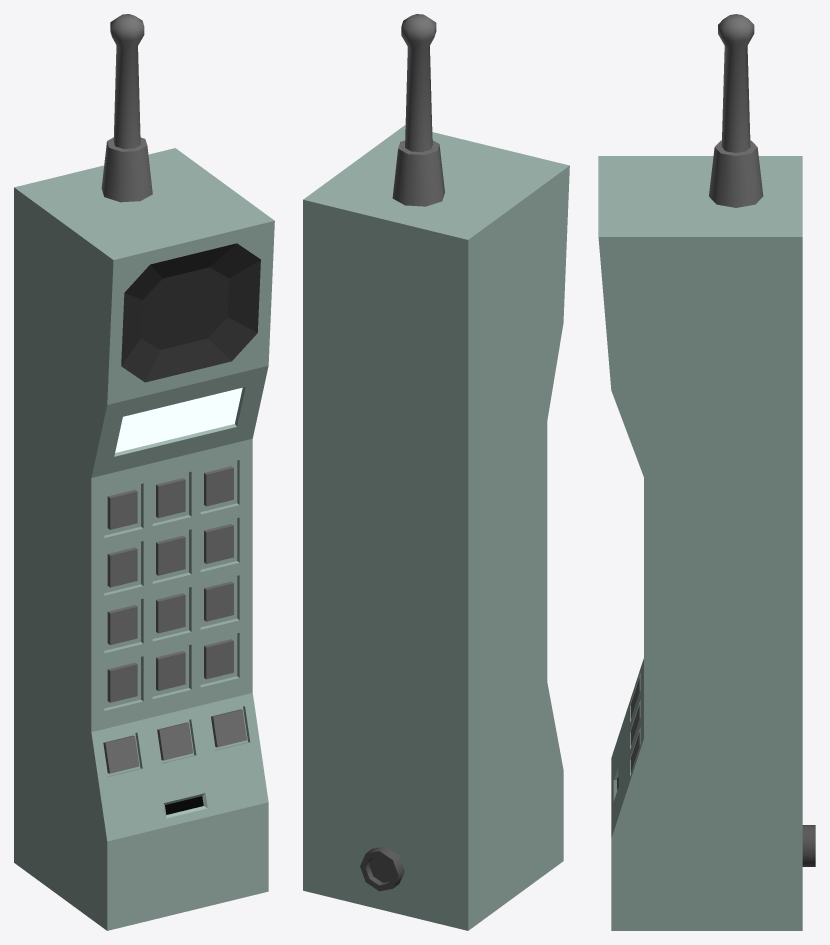
Rendered from Brick Cell Phone.fbx.
3 views of the same model, side by side, from view 1: azimuth 30°, elevation 25°; view 2: azimuth 150°, elevation 25°; view 3: azimuth 270°, elevation 25° (orthographic). The views are drawn at different scales.
Parts seen in each view (by area): view 1: Body, Antenna, Button 1, Button 7, Button *, Button 4, Button Accept, Button Cancel, Button Action, Button 8, Button #, Button 2 (+5 smaller); view 2: Body, Antenna, Power Port; view 3: Body, Antenna, Power Port.
Part boxes in pixels (x1=…): Body: x1=14, y1=148, x2=274, y2=930; Antenna: x1=101, y1=14, x2=152, y2=202; Button 1: x1=107, y1=489, x2=137, y2=529; Button 7: x1=107, y1=605, x2=137, y2=645; Button *: x1=107, y1=662, x2=137, y2=702; Button 4: x1=107, y1=547, x2=137, y2=587; Button Accept: x1=103, y1=735, x2=139, y2=773; Button Cancel: x1=211, y1=709, x2=246, y2=747; Button Action: x1=157, y1=722, x2=192, y2=760; Button 8: x1=156, y1=593, x2=185, y2=633; Button #: x1=204, y1=639, x2=233, y2=679; Button 2: x1=156, y1=478, x2=185, y2=517; Body: x1=303, y1=125, x2=569, y2=930; Antenna: x1=392, y1=14, x2=444, y2=206; Power Port: x1=360, y1=846, x2=404, y2=891; Body: x1=598, y1=156, x2=802, y2=930; Antenna: x1=709, y1=14, x2=763, y2=207; Power Port: x1=802, y1=825, x2=815, y2=866.
Bounding box in the file's own units: 0.2152 × 1.08 × 0.2439.
